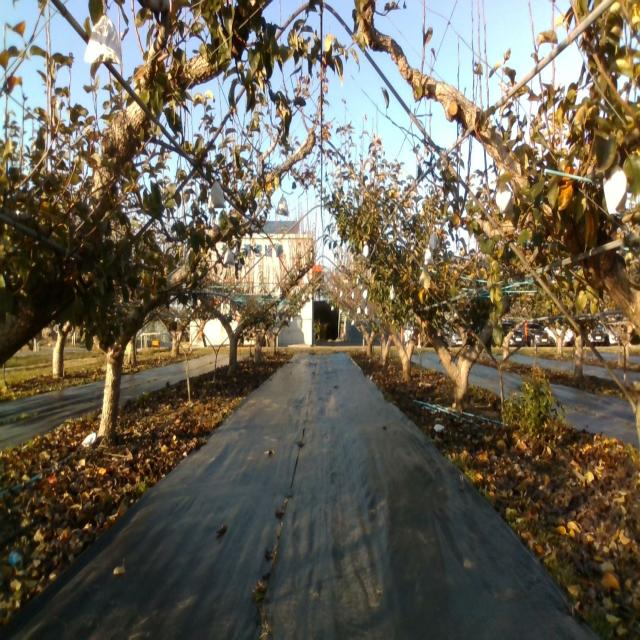pearbags: (85, 15, 123, 65), (604, 162, 627, 216), (495, 187, 513, 216), (208, 181, 225, 210), (276, 195, 288, 218)
